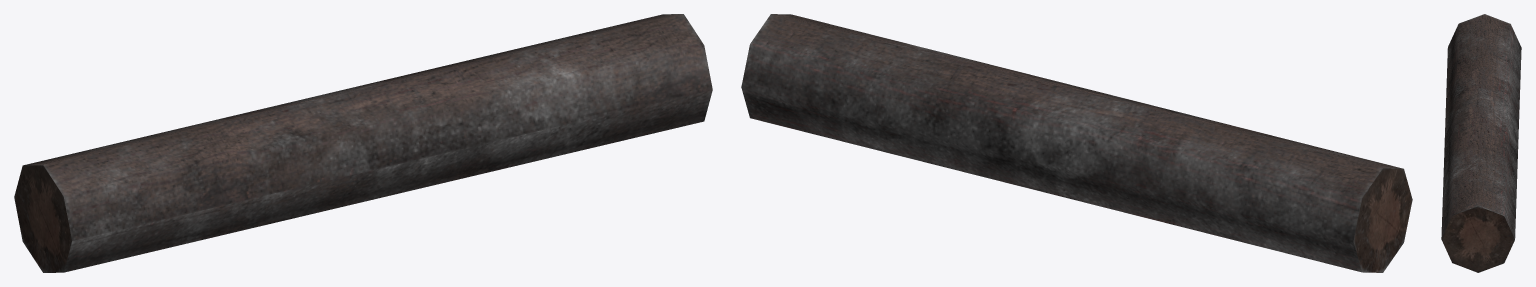
The picture shows the model from 3 angles, left to right: view 1: azimuth 30°, elevation 25°; view 2: azimuth 150°, elevation 25°; view 3: azimuth 270°, elevation 25°; orthographic projection. The views are drawn at different scales.
Visible parts, largest first — view 1: SW_B_lo; view 2: SW_B_lo; view 3: SW_B_lo.
Boxes of the visible parts, <box> form: SW_B_lo: <box>14,14,712,272</box>; SW_B_lo: <box>741,14,1412,272</box>; SW_B_lo: <box>1441,14,1521,272</box>.
Size of the model in its own units: 1.3 by 0.21 by 0.2284.
Materials: 1 (1 with a texture image).
